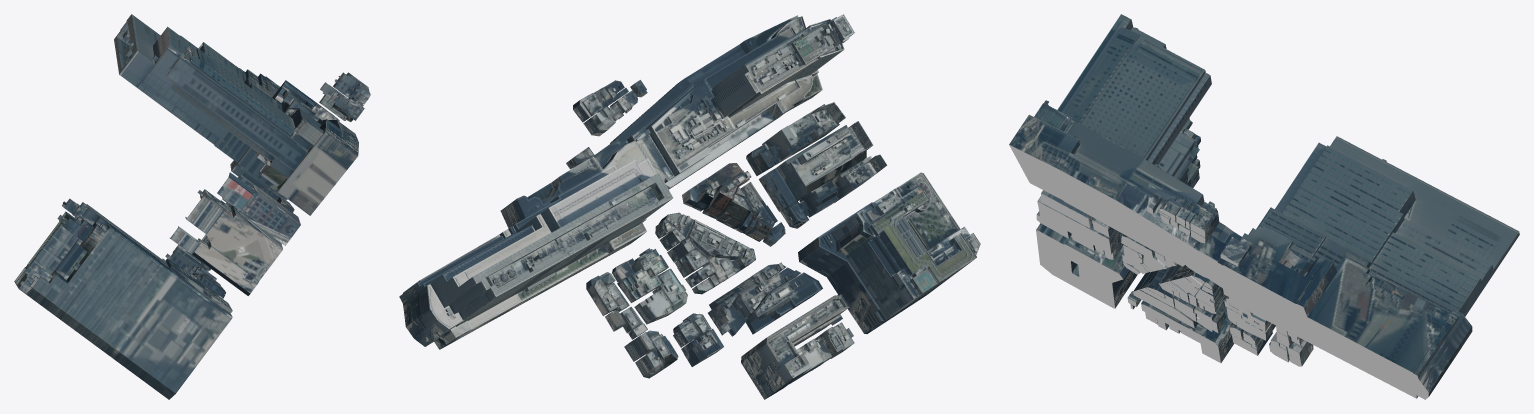
The model's file is l2_data520.glb.
3 views of the same model, side by side, from view 1: azimuth 30°, elevation 25°; view 2: azimuth 150°, elevation 25°; view 3: azimuth 270°, elevation 25° (orthographic). The views are drawn at different scales.
Bounding box in the file's own units: 275 × 215 × 295.
Materials: 2 (1 with a texture image).
